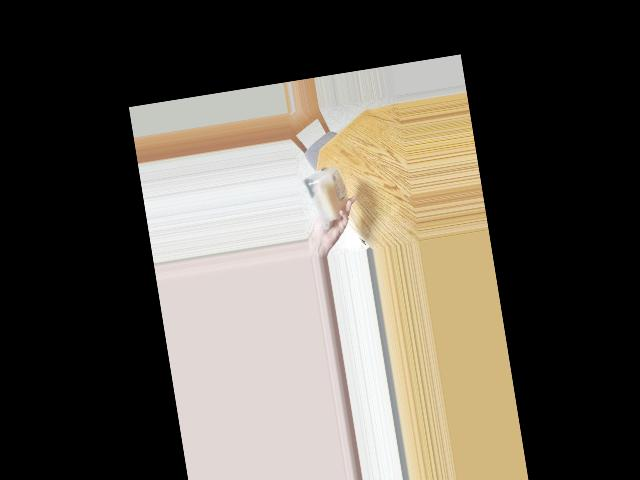cheese: (302, 162, 353, 225)
